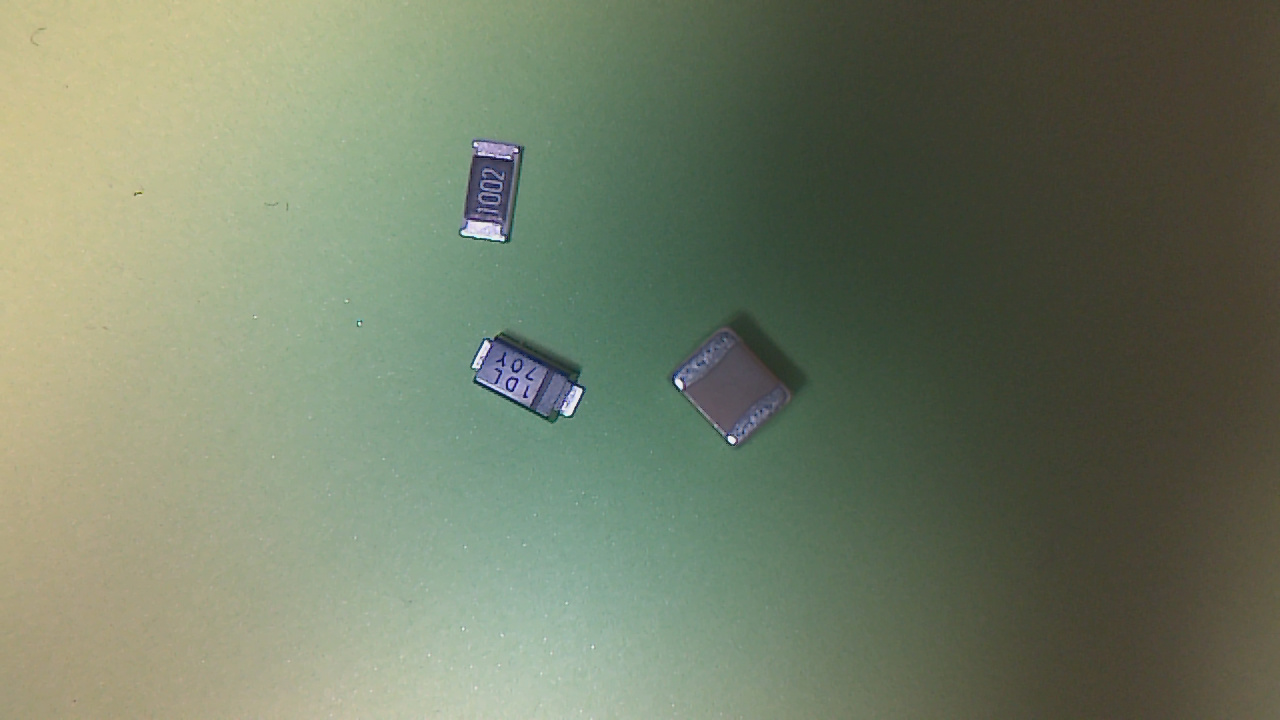Condensator: (671, 331, 803, 457)
Diode: (472, 338, 592, 432)
Resistor: (461, 145, 531, 248)
